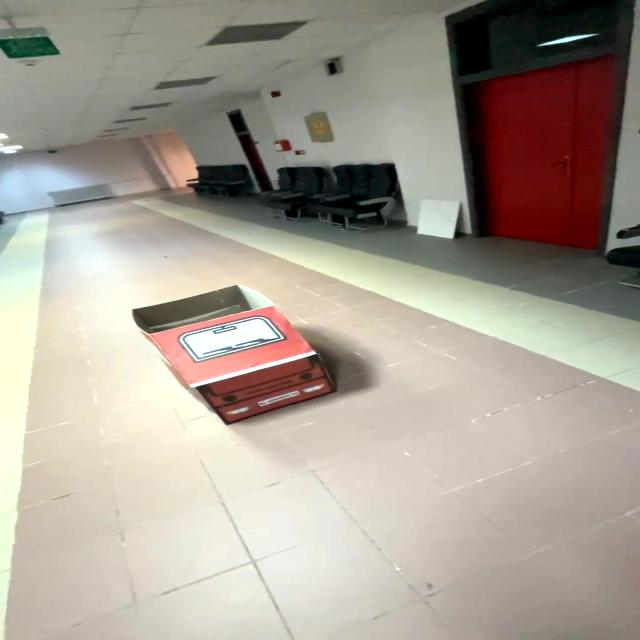red_car: (94, 266, 367, 437)
